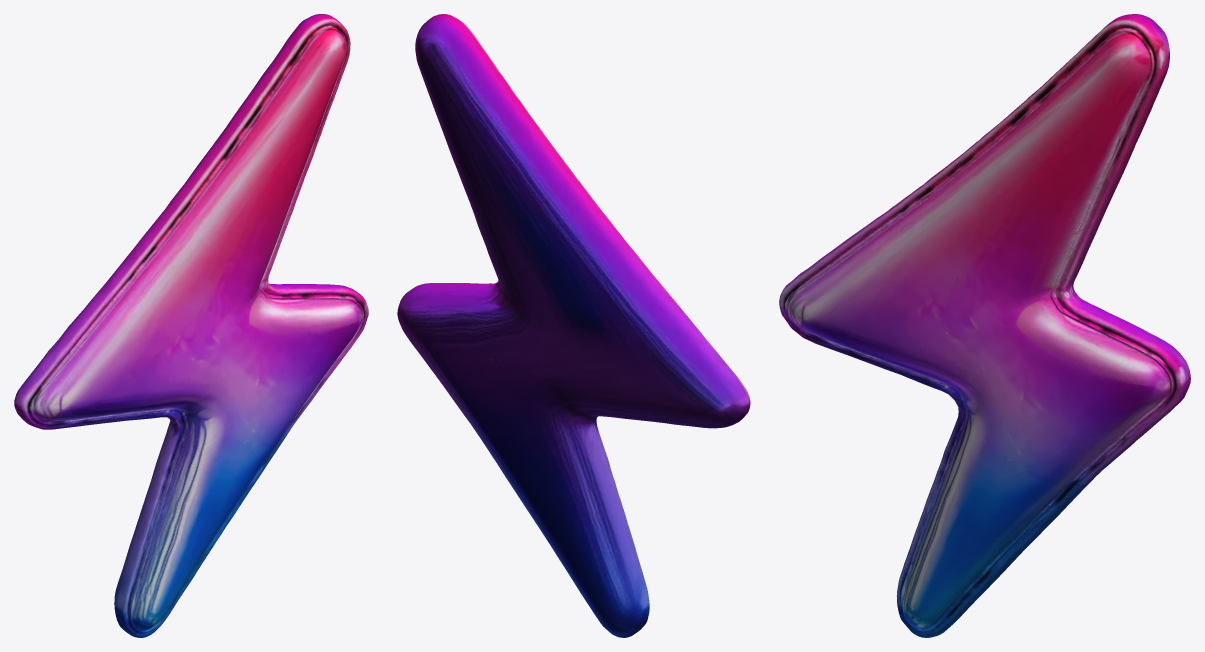
The model's file is flash__main__r2__p1.glb.
3 views of the same model, side by side, from view 1: azimuth 30°, elevation 25°; view 2: azimuth 150°, elevation 25°; view 3: azimuth 330°, elevation 25° (orthographic). The views are drawn at different scales.
Parts seen in each view (by area): view 1: model; view 2: model; view 3: model.
Part boxes in pixels (box(x1,y1,x2,y2)): model: box(14, 14, 368, 637); model: box(397, 14, 750, 637); model: box(779, 14, 1190, 637).
Bounding box in the file's own units: 1.16 × 1.83 × 0.2006.
1 material, 1 textured.
